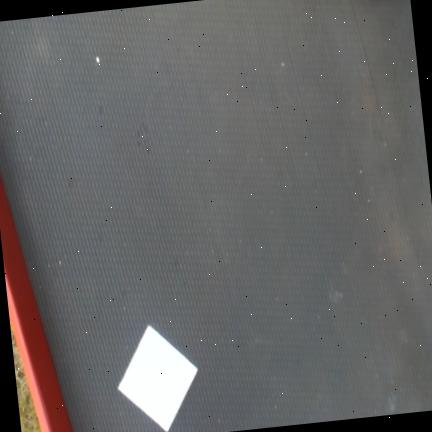Piramide: (118, 324, 199, 432)
